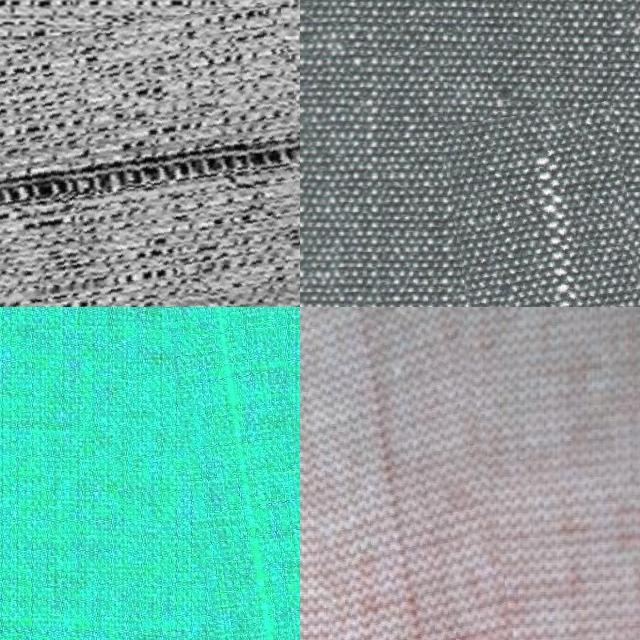Thread_other: (0, 23, 300, 307), (300, 307, 526, 640), (185, 307, 300, 640), (454, 105, 640, 307)
